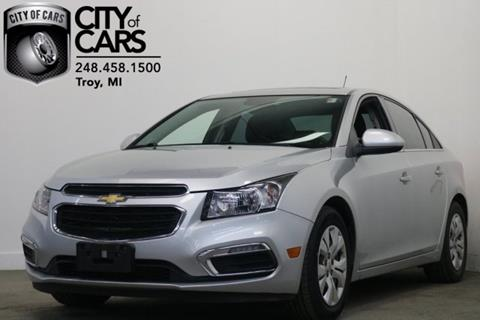Carro: (17, 79, 468, 315)
